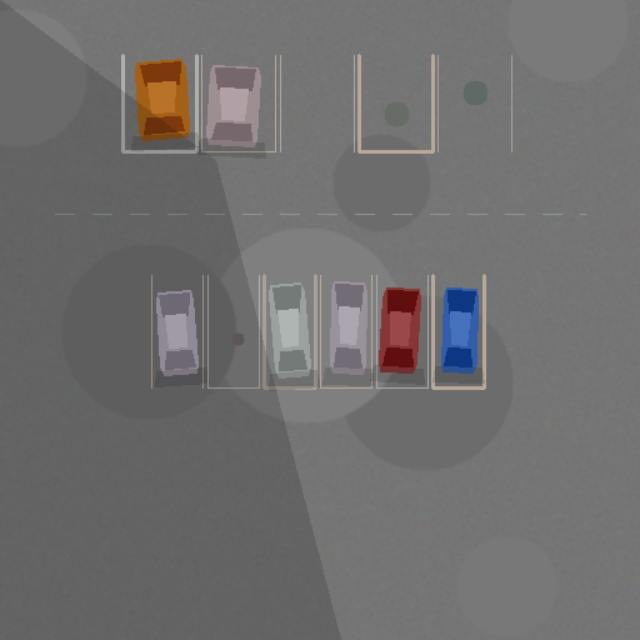space-empty: (280, 55, 354, 151), (359, 55, 432, 151), (438, 55, 511, 151), (208, 275, 259, 387)
space-occupied: (122, 55, 196, 151), (201, 55, 275, 151), (376, 275, 428, 387), (432, 275, 484, 387), (151, 275, 202, 387), (264, 275, 315, 387), (320, 275, 371, 387)
